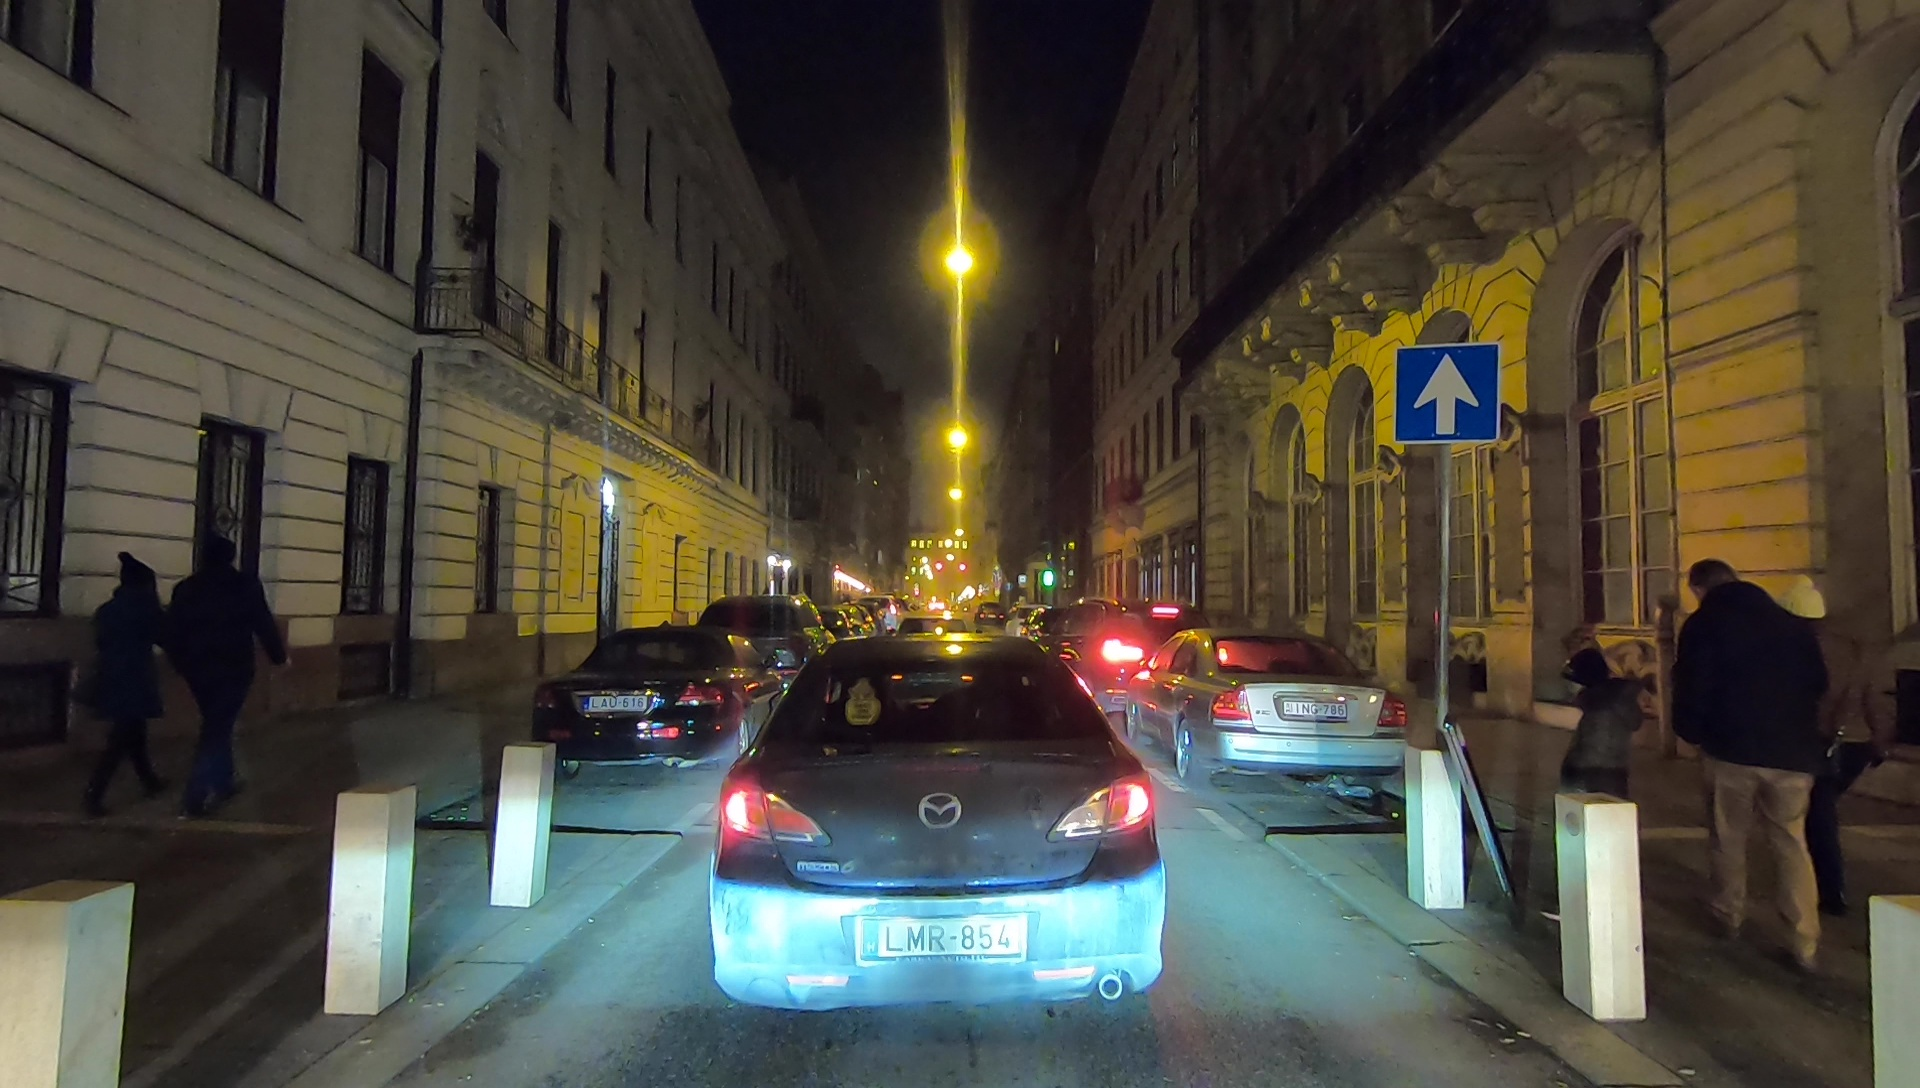person: (1673, 560, 1821, 967), (1767, 573, 1871, 915), (164, 543, 271, 811), (1545, 647, 1639, 910), (75, 549, 164, 815)
